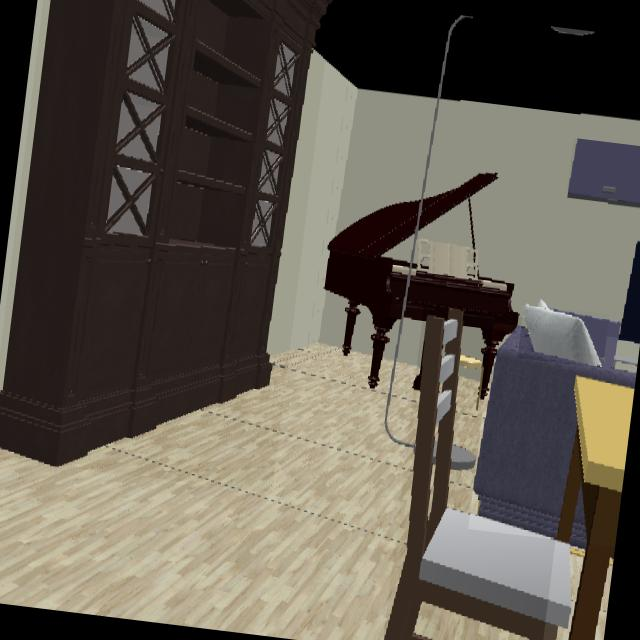bookshelf: (0, 0, 332, 466)
cabinet: (568, 139, 640, 207)
chair: (384, 308, 570, 640)
pillow: (522, 304, 603, 366)
sofa: (472, 326, 636, 538)
table: (556, 377, 634, 640)
